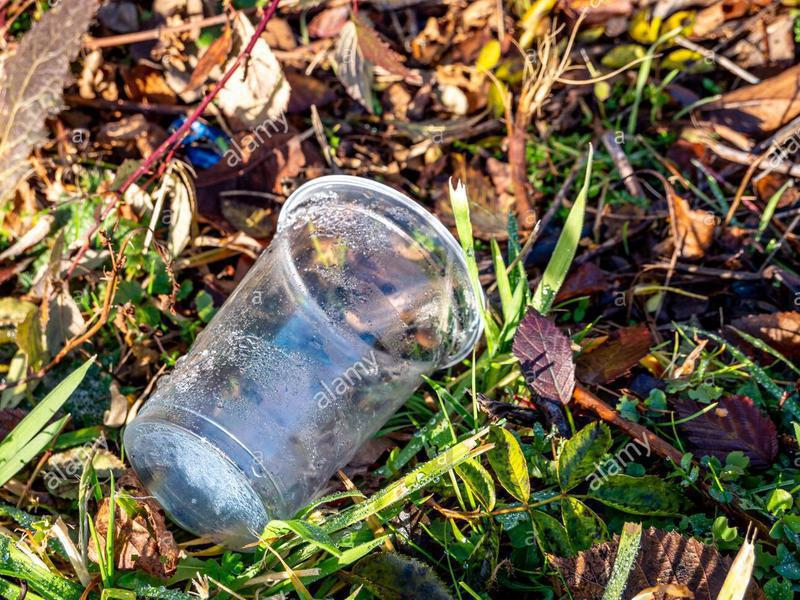cup: (115, 160, 492, 554)
leaf: (504, 304, 586, 434), (545, 416, 620, 495), (477, 426, 538, 509)
